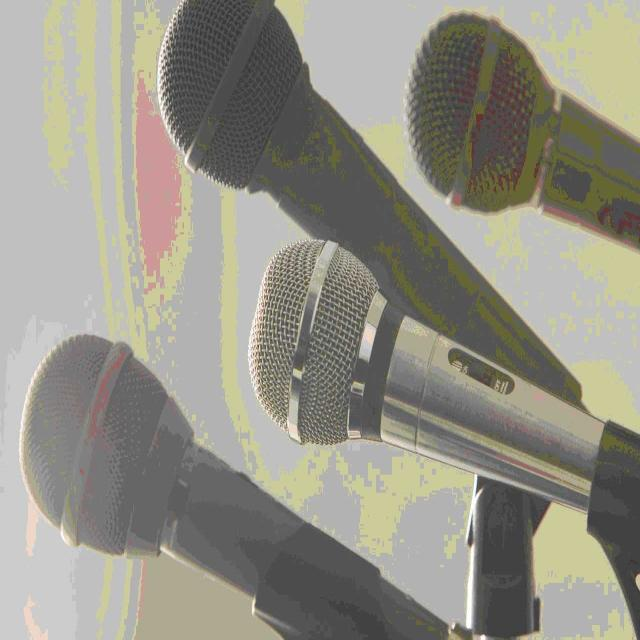microphone: (163, 0, 576, 411), (18, 328, 457, 640), (249, 233, 622, 555), (363, 6, 640, 258)
